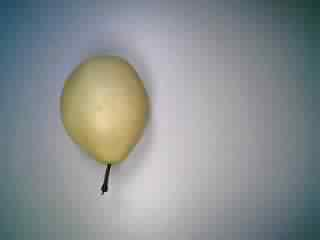pear: (45, 51, 156, 199)
